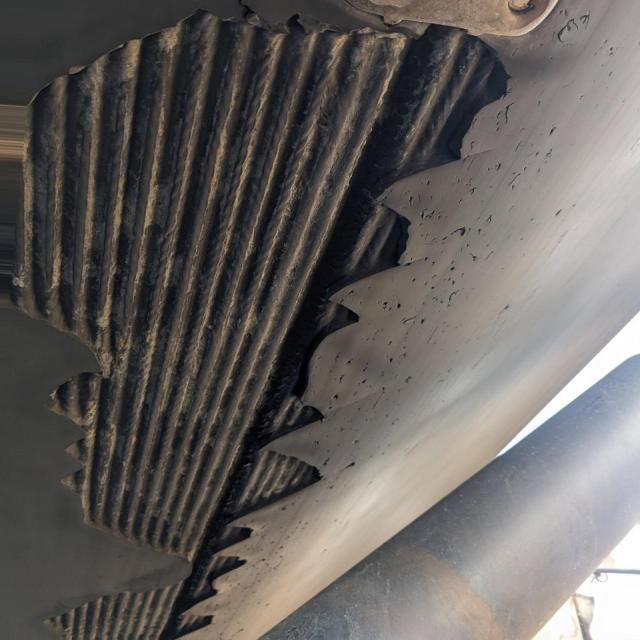Tear: (0, 6, 521, 640)
